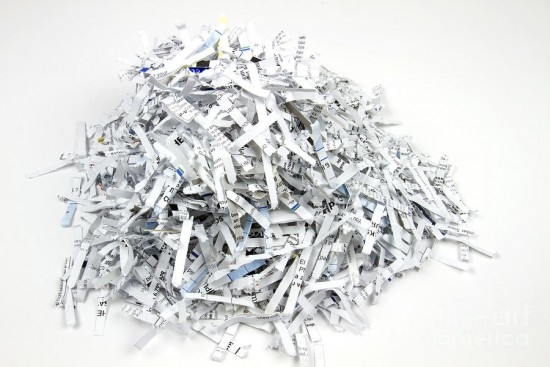paper: (39, 115, 153, 242), (203, 35, 296, 168), (47, 241, 156, 338), (223, 222, 319, 326), (281, 52, 349, 187), (337, 97, 420, 204), (137, 58, 223, 161), (310, 244, 398, 333), (185, 308, 323, 364), (153, 228, 231, 317), (178, 165, 274, 225), (401, 163, 478, 226), (261, 179, 332, 242), (134, 174, 196, 239), (426, 214, 500, 268)
